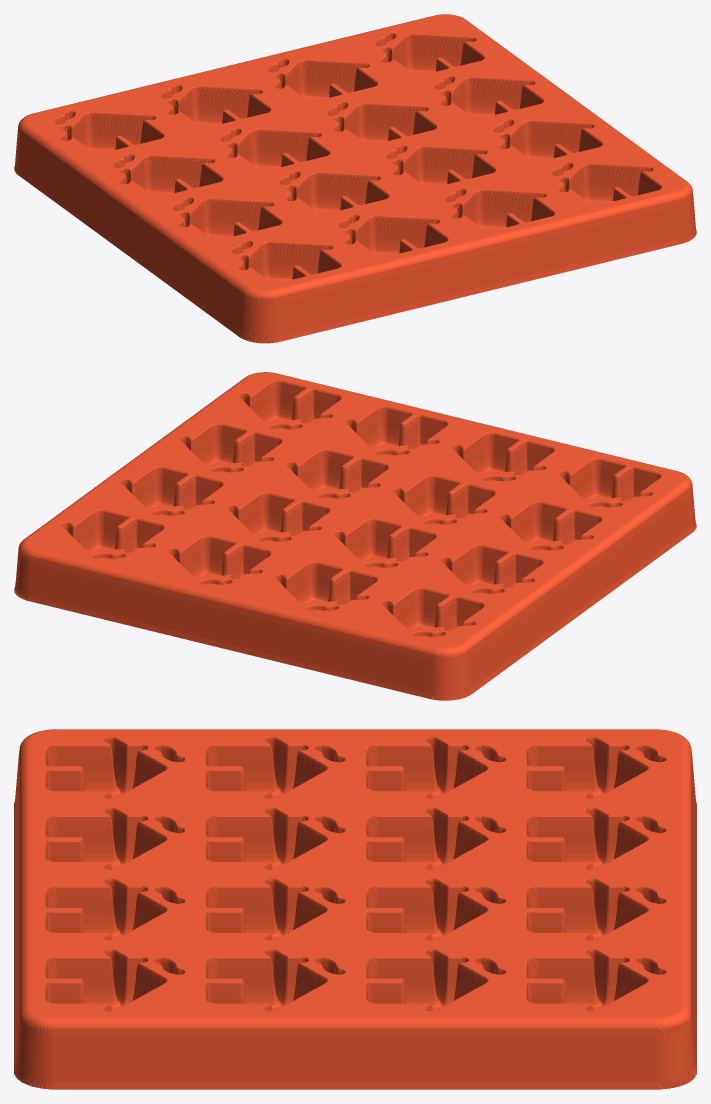
File: mold.glb
3 views of the same model, one above another, from view 1: azimuth 30°, elevation 25°; view 2: azimuth 150°, elevation 25°; view 3: azimuth 270°, elevation 25° (orthographic). The views are drawn at different scales.
Parts seen in each view (by area): view 1: geometry_0; view 2: geometry_0; view 3: geometry_0.
Part boxes in pixels (left/top/right/bottom): geometry_0: left=14, top=14, right=696, bottom=343; geometry_0: left=14, top=372, right=696, bottom=700; geometry_0: left=14, top=729, right=696, bottom=1089.
Size of the model in its own units: 0.1569 by 0.0159 by 0.1507.
